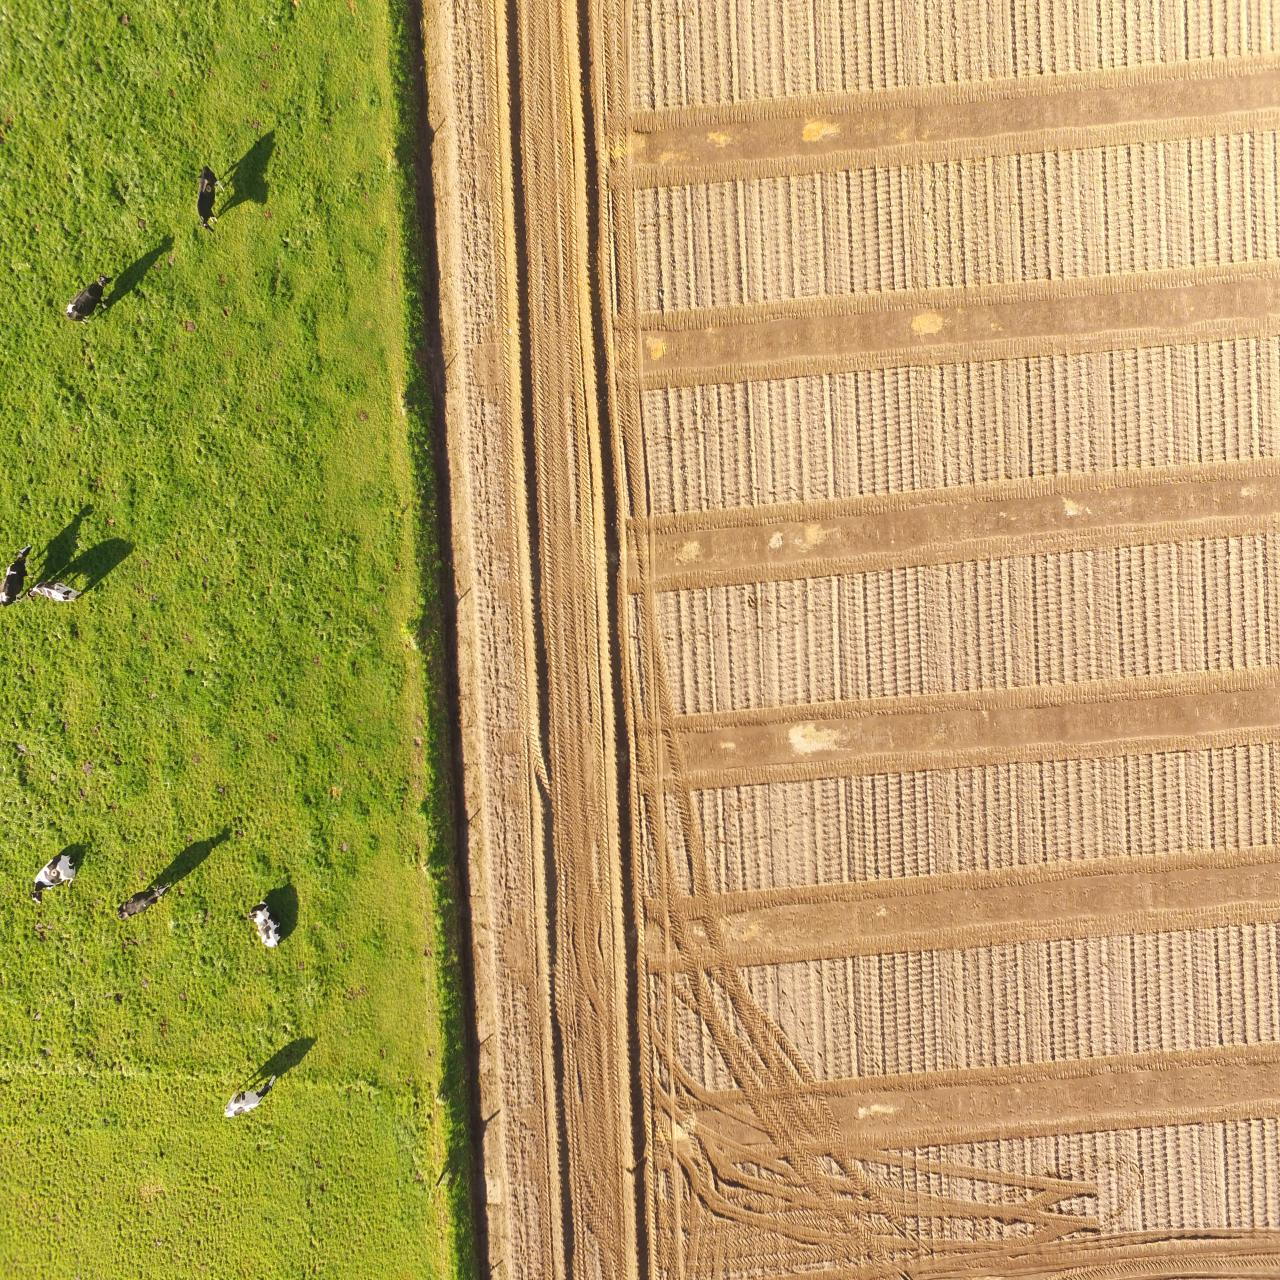cow: (219, 1067, 277, 1122), (111, 878, 173, 924), (63, 270, 111, 328), (27, 850, 75, 904), (0, 530, 30, 611), (243, 899, 285, 956), (196, 162, 225, 233), (27, 580, 83, 605)
